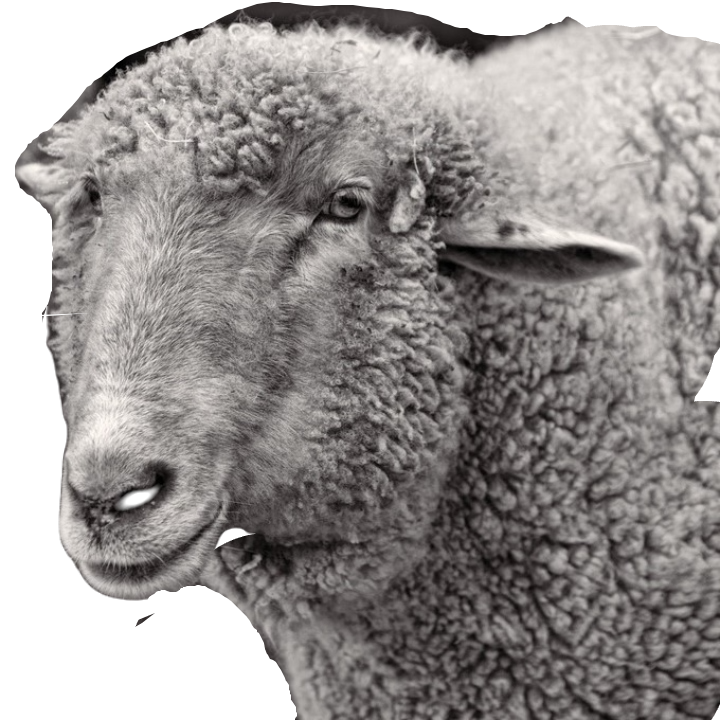Sheep: (10, 20, 719, 719)
